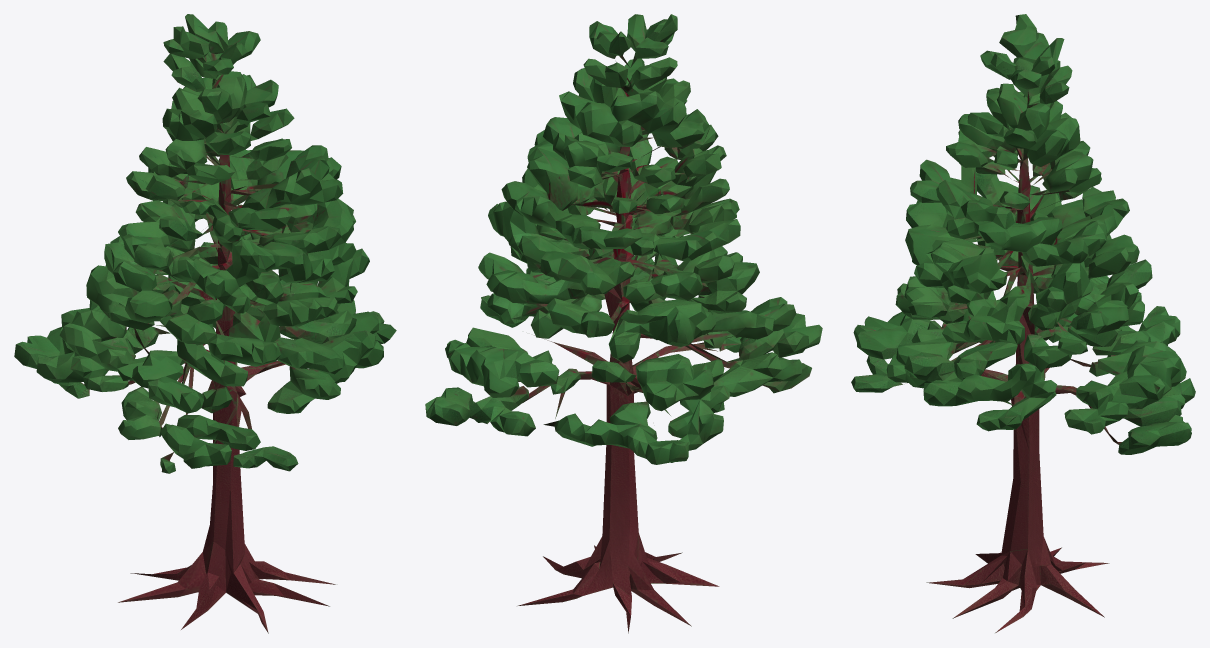
Rendered from pine_a.glb.
The picture shows the model from 3 angles, left to right: view 1: azimuth 30°, elevation 25°; view 2: azimuth 150°, elevation 25°; view 3: azimuth 270°, elevation 25°; orthographic projection. The views are drawn at different scales.
Size of the model in its own units: 0.994 by 1.89 by 1.06.
1 material, 1 textured.
